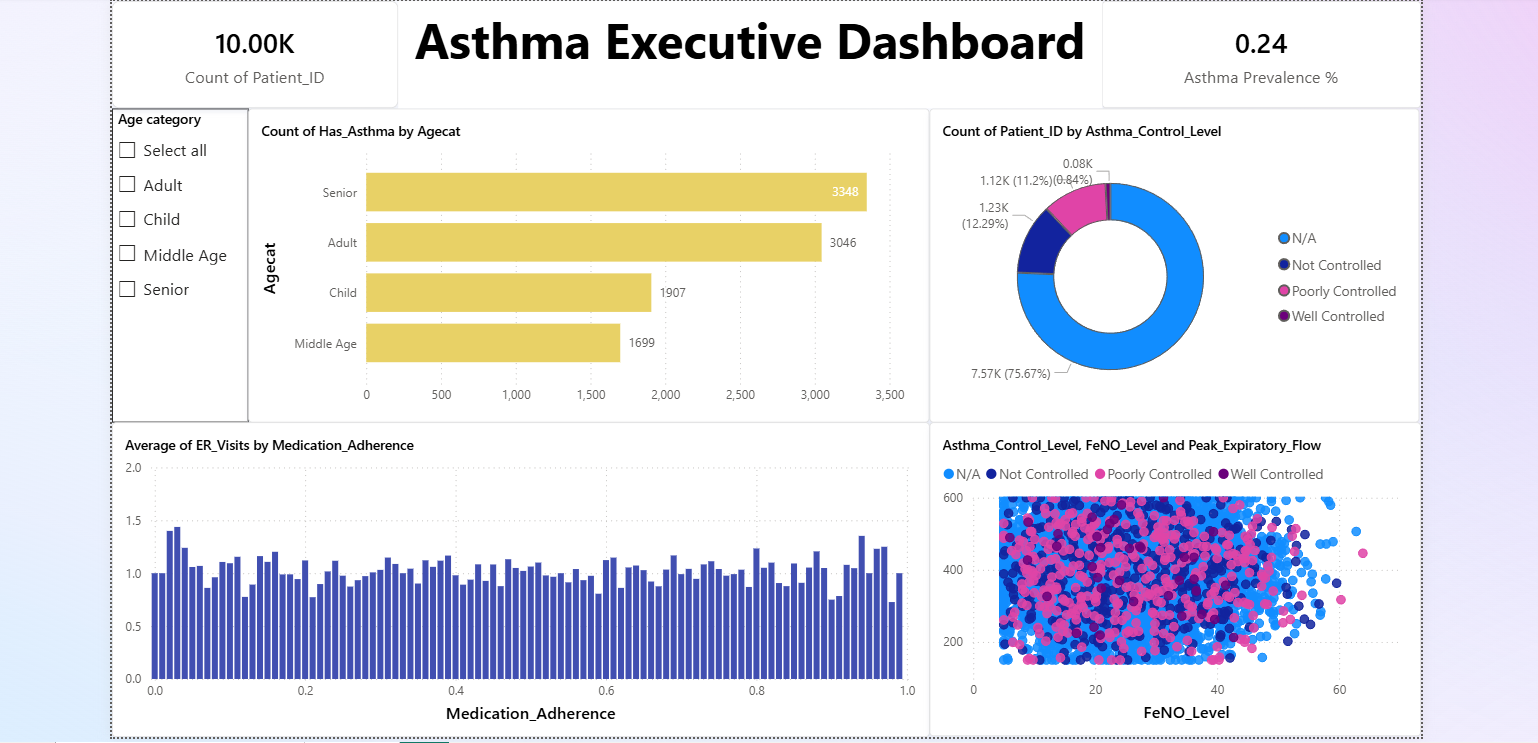

What the dashboard file says about the page in this screenshot:
{"tool":"powerbi","page":{"name":"Asthma Executive Dashboard","canvas":[1280,720],"ordinal":0},"visuals":[{"type":"listSlicer","title":"Age category","fields":{"Values":["Asthma.Agecat"]},"box":[0,105.2,133.3,306.9],"z":0},{"type":"card","fields":{"Values":["CountNonNull(Asthma.Patient_ID)"]},"box":[0,0,280,105.2],"z":1000},{"type":"card","fields":{"Values":["Asthma.Asthma Prevalence %"]},"box":[968.5,0,311.8,105.2],"z":2000},{"type":"clusteredBarChart","fields":{"Category":["Asthma.Agecat"],"Y":["CountNonNull(Asthma.Has_Asthma)"]},"box":[133.3,105.2,666.4,306.9],"z":2001},{"type":"donutChart","fields":{"Category":["Asthma.Asthma_Control_Level"],"Y":["CountNonNull(Asthma.Patient_ID)"]},"box":[799.7,105.2,479.4,306.9],"z":2003},{"type":"clusteredColumnChart","fields":{"Category":["Asthma.Medication_Adherence"],"Y":["Avg(Asthma.ER_Visits)"]},"box":[0,412.1,799.7,308.2],"z":2004},{"type":"scatterChart","fields":{"X":["Asthma.FeNO_Level"],"Y":["Asthma.Peak_Expiratory_Flow"],"Series":["Asthma.Asthma_Control_Level"]},"box":[799.7,412.1,480.6,306.9],"z":2005},{"type":"textbox","box":[280,0,688.5,105.2],"z":2006}]}

Visuals, with their boxes on the page's 1280x720 design canvas (x1, y1, x2, y2). These are canvas units, not pixel positions in the 1538x743 screenshot, which may show the page scaled, cropped or inside an application window:
"Age category" listSlicer: crop(0, 105, 133, 412)
card - CountNonNull(Asthma.Patient_ID): crop(0, 0, 280, 105)
card - Asthma.Asthma Prevalence %: crop(968, 0, 1280, 105)
clusteredBarChart - Asthma.Agecat x CountNonNull(Asthma.Has_Asthma): crop(133, 105, 800, 412)
donutChart - Asthma.Asthma_Control_Level x CountNonNull(Asthma.Patient_ID): crop(800, 105, 1279, 412)
clusteredColumnChart - Asthma.Medication_Adherence x Avg(Asthma.ER_Visits): crop(0, 412, 800, 720)
scatterChart - Asthma.FeNO_Level x Asthma.Peak_Expiratory_Flow: crop(800, 412, 1280, 719)
textbox: crop(280, 0, 968, 105)
